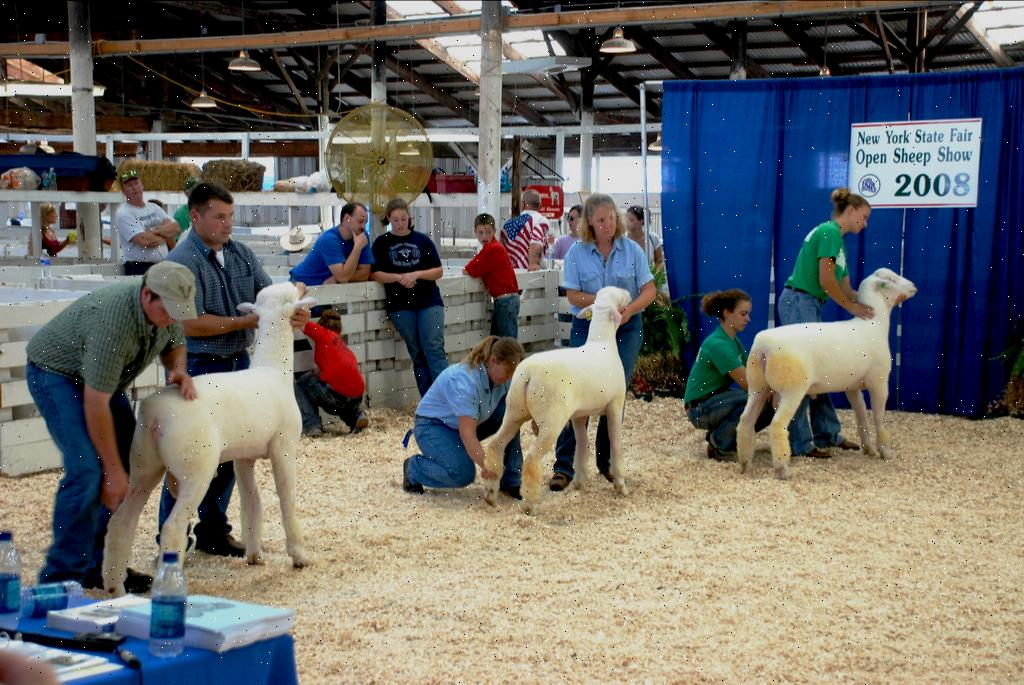Sheep: (99, 284, 315, 599), (742, 271, 928, 485), (482, 287, 634, 511)
